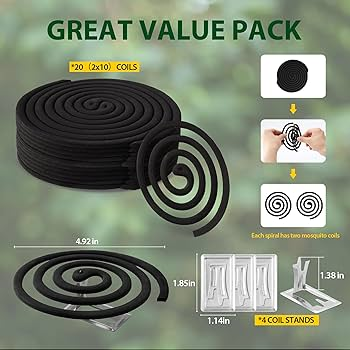Open-Flame-Hazard: (9, 248, 174, 339)
